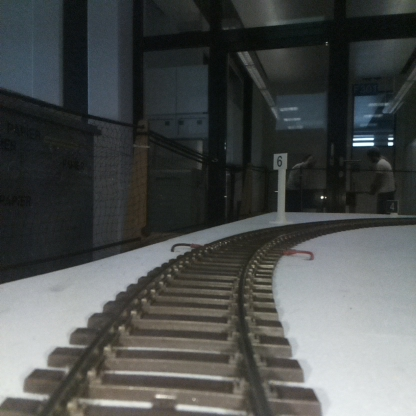white-info-6: (274, 153, 287, 224)
